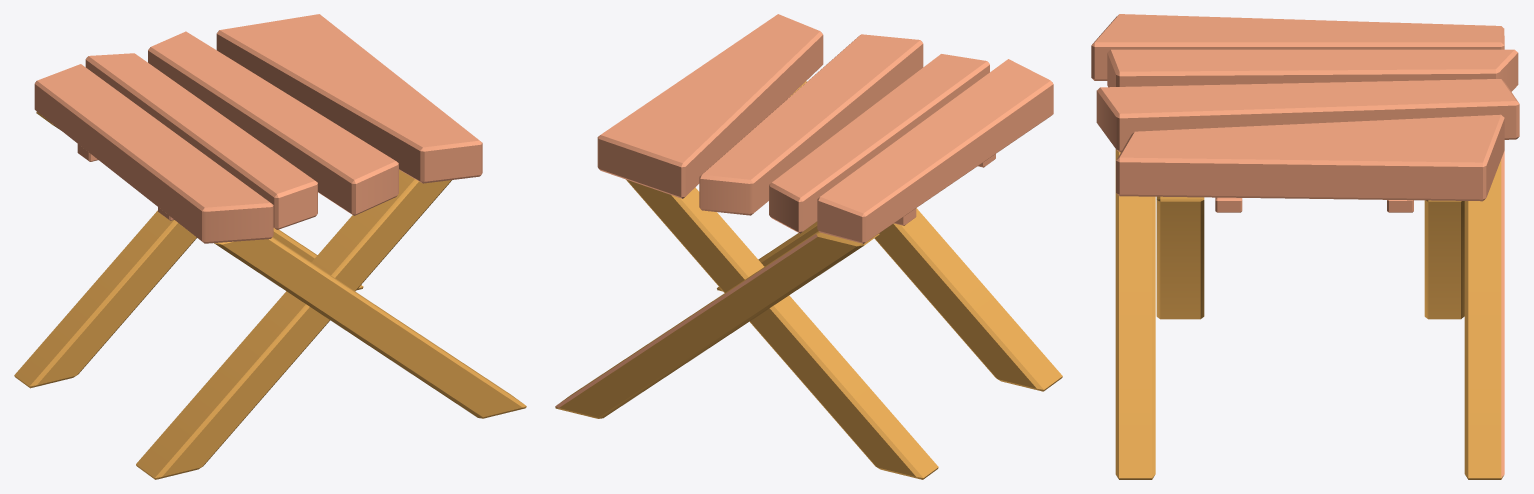
The model's file is Stool.fbx.
The picture shows the model from 3 angles, left to right: view 1: azimuth 30°, elevation 25°; view 2: azimuth 150°, elevation 25°; view 3: azimuth 270°, elevation 25°; orthographic projection. The views are drawn at different scales.
Visible parts, largest first — view 1: Bench.002, Stand; view 2: Bench.002, Stand; view 3: Bench.002, Stand.
Boxes of the visible parts, x1,y1,x2,y2 form: Bench.002: [34, 14, 482, 243]; Stand: [14, 111, 526, 479]; Bench.002: [597, 14, 1053, 243]; Stand: [555, 81, 1062, 479]; Bench.002: [1091, 14, 1519, 212]; Stand: [1115, 149, 1504, 479].
Bounding box in the file's own units: 90.16 × 68.05 × 88.6.
